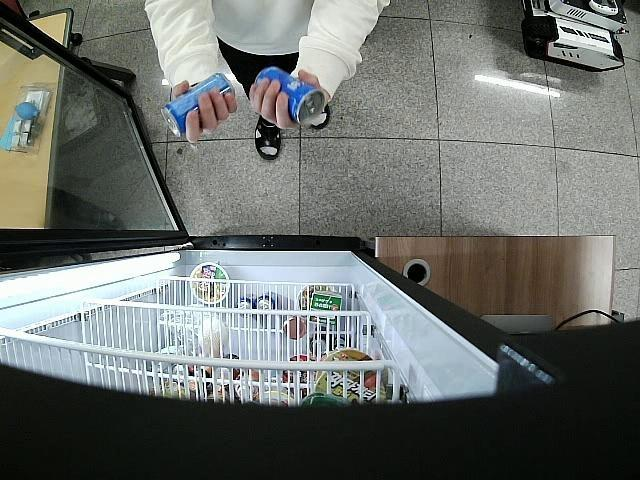15_letsbe: (159, 74, 235, 136), (258, 64, 324, 130)
